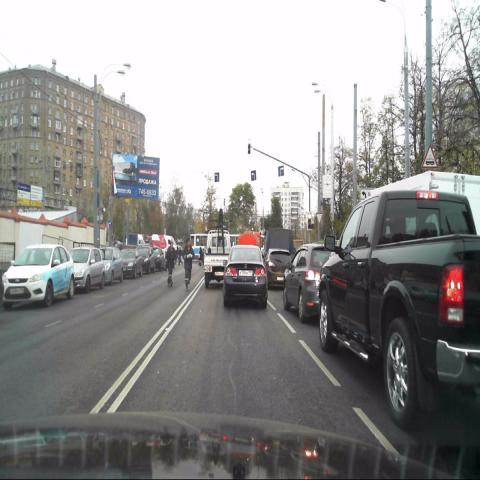1_5: (421, 142, 438, 167)
